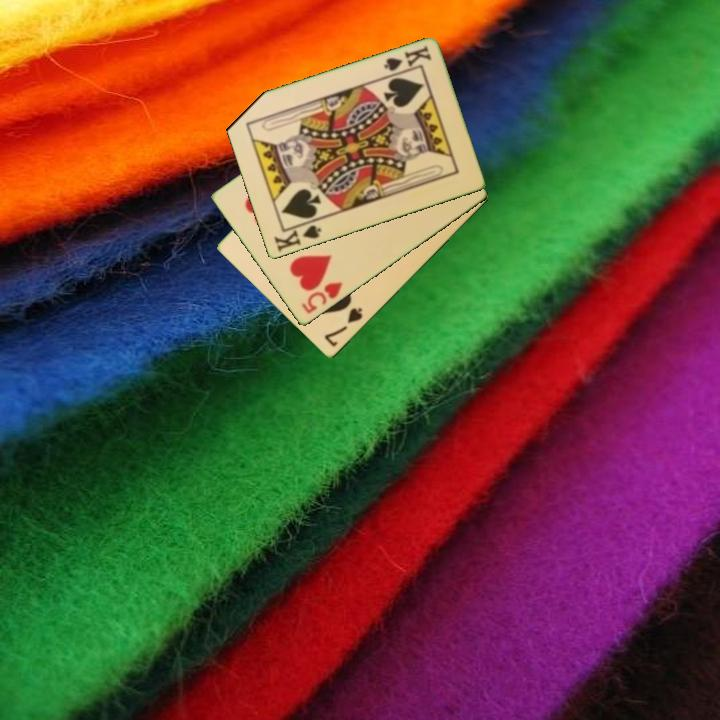5h: (298, 279, 345, 317)
7s: (321, 304, 366, 350)
Ks: (270, 216, 324, 255), (380, 43, 434, 74)
